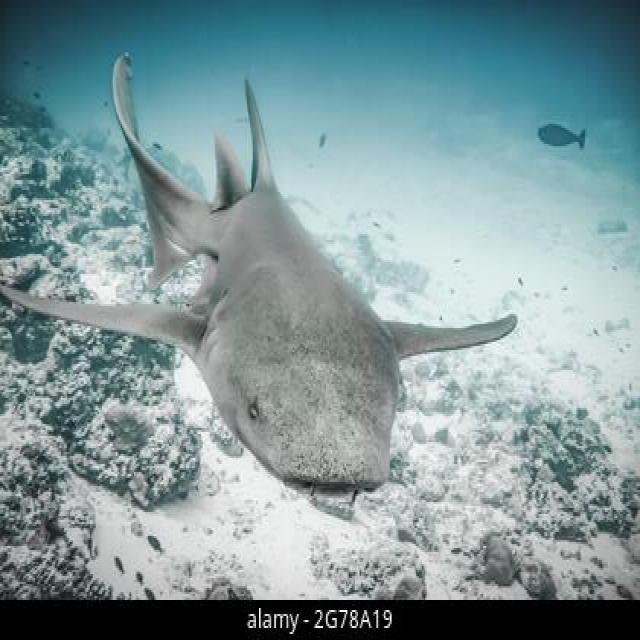Shark: (9, 50, 533, 490)
